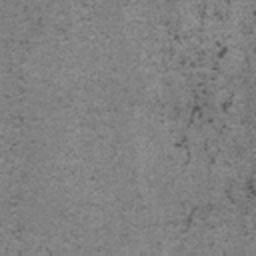Oxide scale of temperature system: (178, 40, 237, 131), (173, 133, 192, 165), (178, 204, 198, 234), (202, 138, 216, 165), (224, 187, 237, 205), (244, 178, 256, 196), (211, 9, 224, 20), (173, 32, 180, 41)
